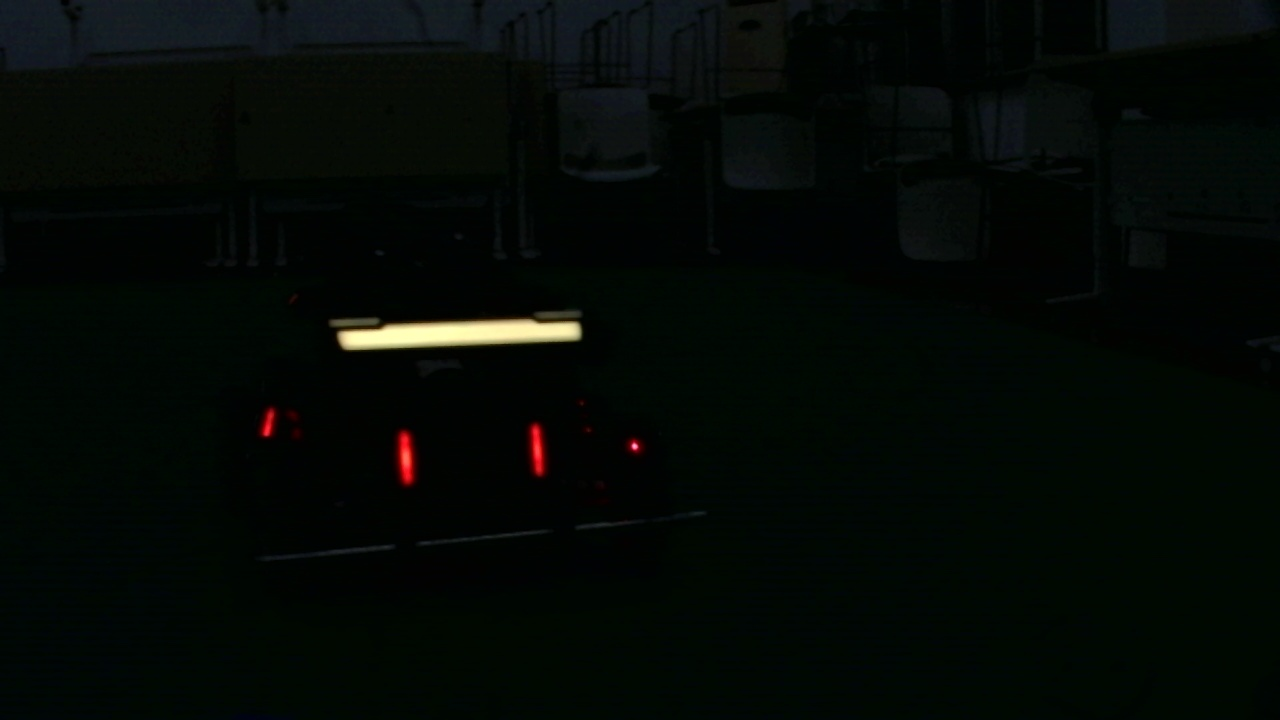lamp: (397, 424, 419, 483), (530, 424, 548, 476), (260, 404, 273, 436)
notpair1: (262, 405, 420, 485)
pair1: (398, 426, 550, 492)
